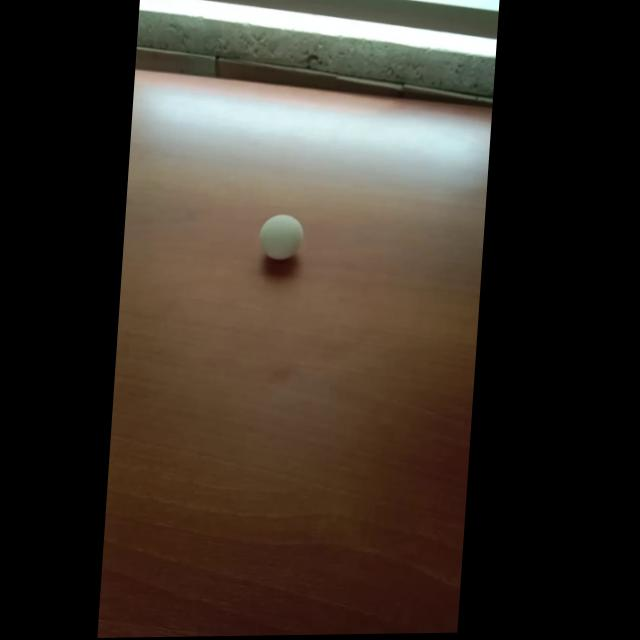white ball: (257, 213, 304, 260)
